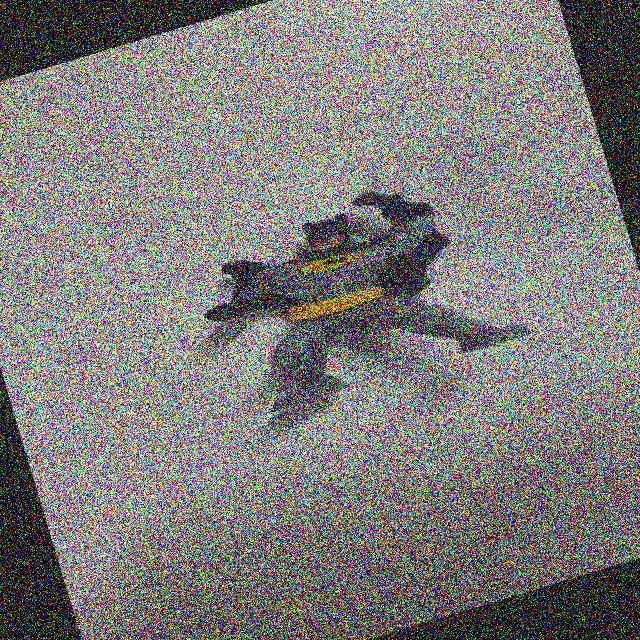Batman: (165, 147, 550, 449)
